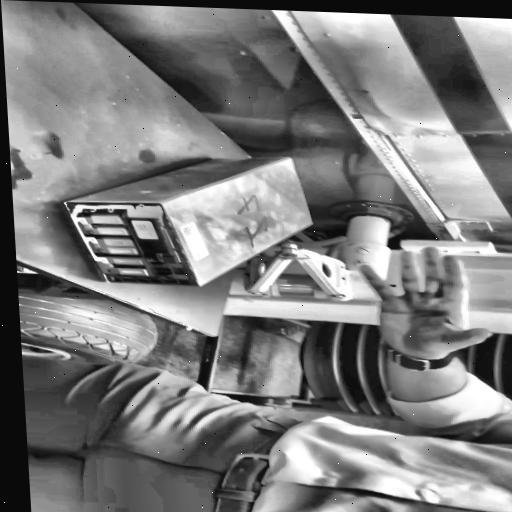battery_module: (62, 157, 316, 286)
